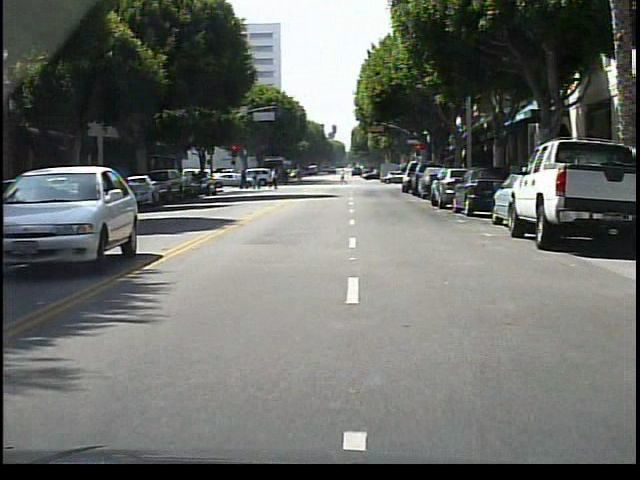person: (266, 165, 286, 195)
